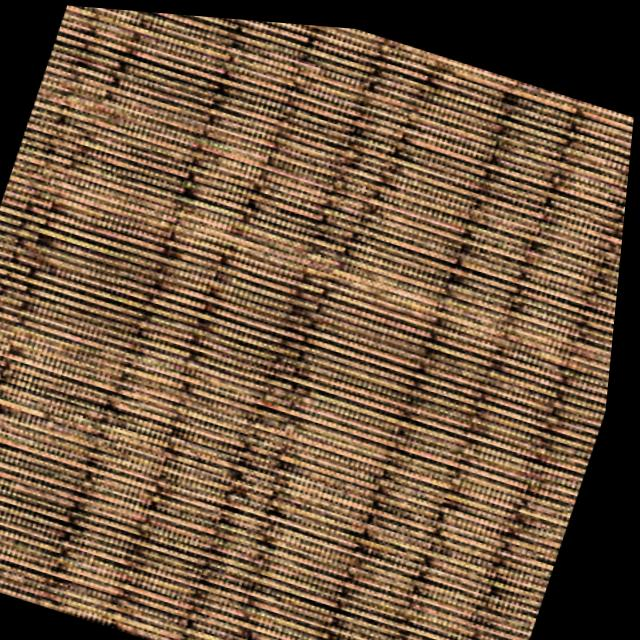Stitch: (185, 50, 451, 602)
